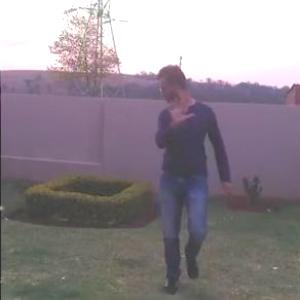follow_hand: (164, 94, 199, 125)
